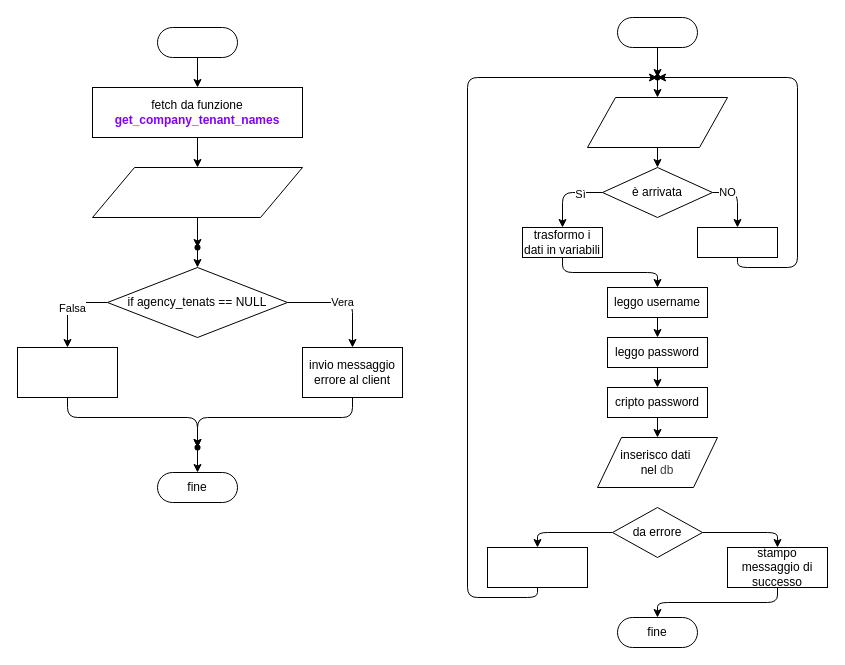
The diagram is 845 pixels wide and 665 high, and some of its shapes have lost their labels. Each missing label, with the centre of its shape:
fetcho alla chiamata api backend: [657,122]
get_data: [197,42]
invio json al client con i risultati: [67,372]
leggo i dati dal db: [197,192]
post_data: [657,32]
stampo errore: [737,242]
stampo messaggio di errore: [537,567]
